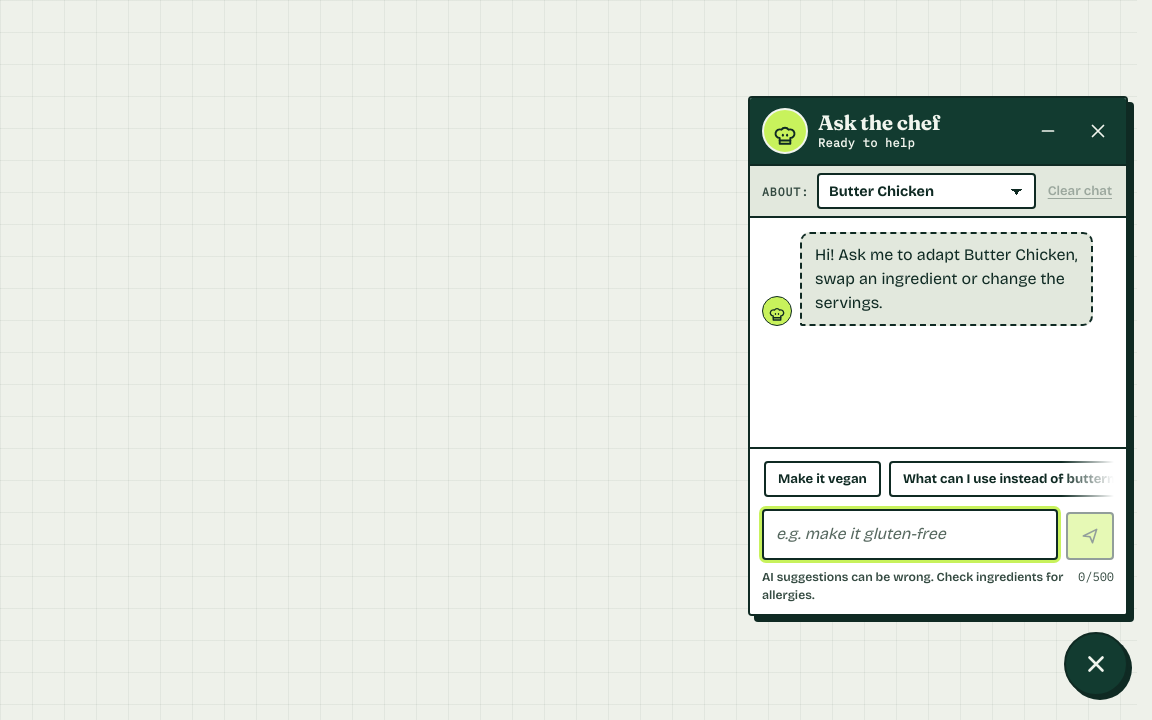
Test: ChatPanel › shows an error bubble with a retry that resends the same message
The image size is (1152, 720).
Type "Make it vegan" into the text box named "Message the chef" at x=910, y=534, box [762,509,1058,560]
Then press Enter
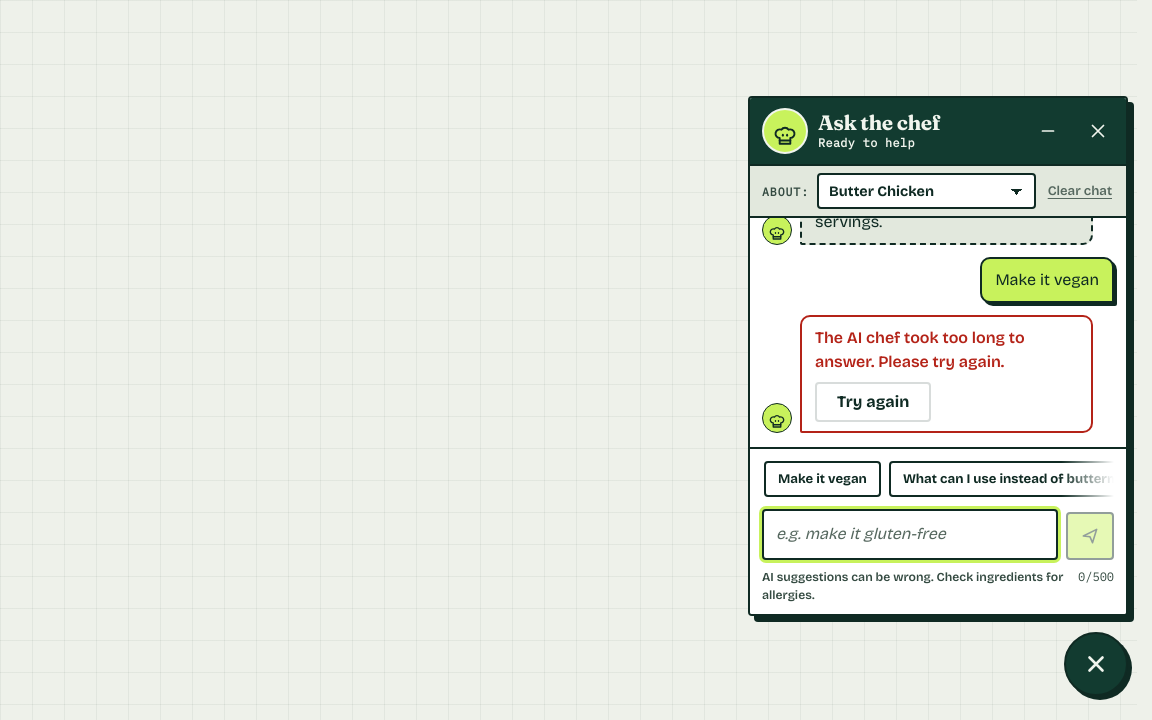
Expected: the message shows "took too long", [815,328,1025,371]
Click the button "Try again" at x=873, y=402, box [815,382,931,422]
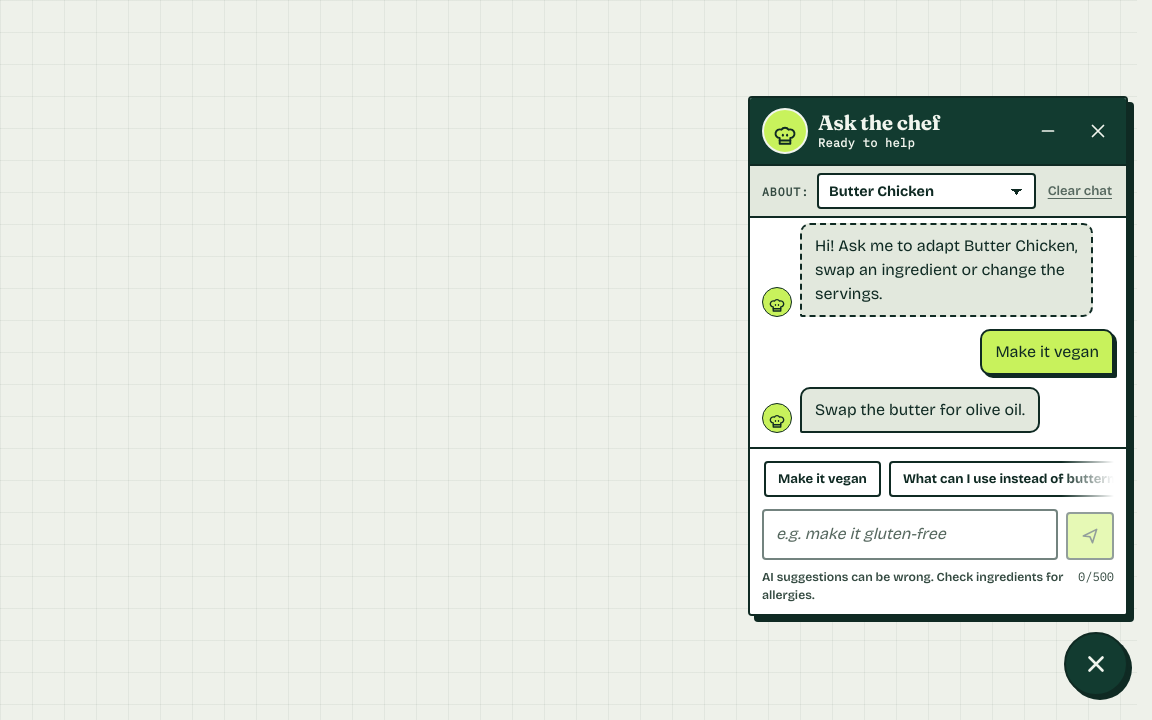
Expected: the text "Swap the butter for olive oil." is shown, [815,398,1025,422]
Expected: the message "The AI chef took too long to answer. Please try again. Try again" is gone
Expected: the text "Make it vegan" is shown once, [995,340,1099,364]
